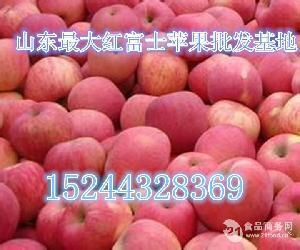apple: (145, 92, 210, 150), (9, 101, 73, 158), (101, 125, 170, 177), (21, 54, 83, 104), (59, 200, 123, 248), (132, 198, 197, 239), (204, 96, 260, 143), (3, 161, 46, 221), (137, 53, 188, 95), (256, 133, 300, 180), (88, 4, 140, 34), (261, 212, 300, 250), (133, 2, 174, 34), (168, 152, 221, 175)
